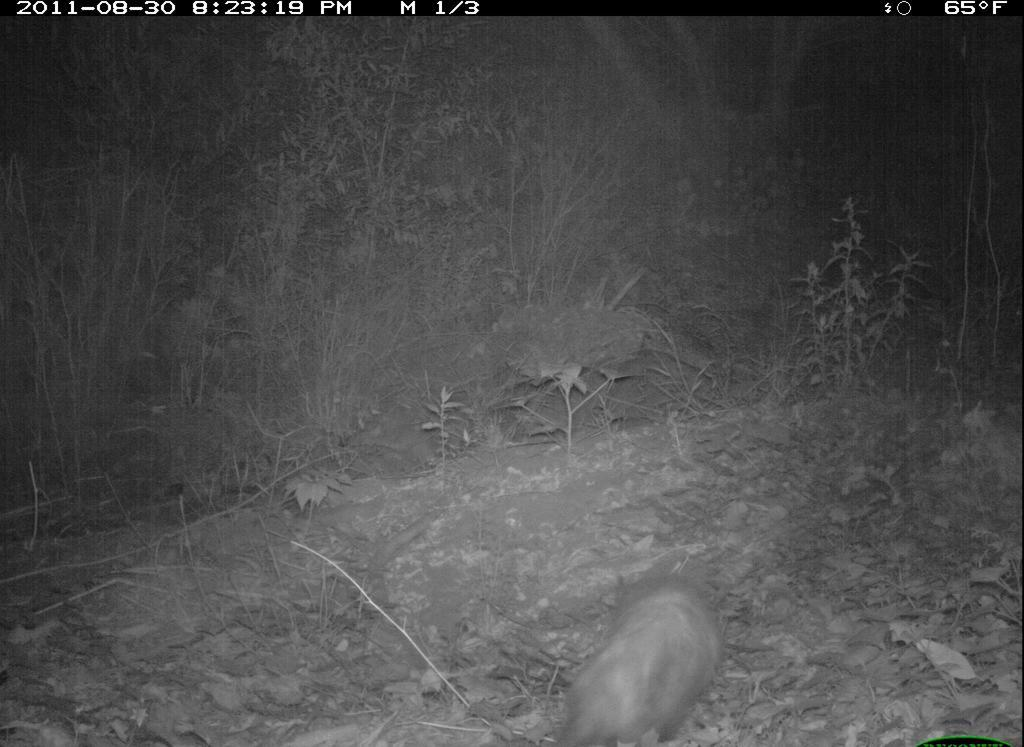opossum: (539, 573, 724, 747)
